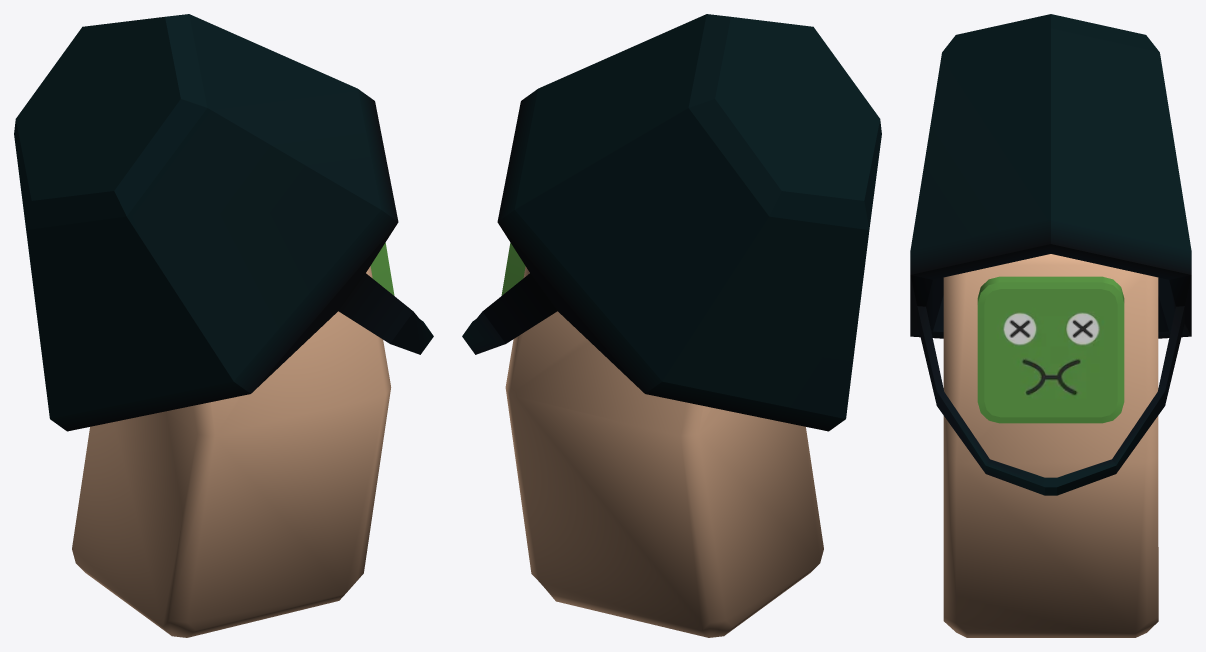
The model's file is Bucket.fbx.
3 views of the same model, side by side, from view 1: azimuth 30°, elevation 25°; view 2: azimuth 150°, elevation 25°; view 3: azimuth 270°, elevation 25° (orthographic). The views are drawn at different scales.
Parts seen in each view (by area): view 1: Cylinder.025, Cube.047, Cube.048; view 2: Cylinder.025, Cube.047, Cube.048; view 3: Cylinder.025, Cube.047, Cube.048.
Part boxes in pixels (<box>): Cylinder.025: <box>14,14,433,431</box>; Cube.047: <box>72,266,391,637</box>; Cube.048: <box>370,243,394,295</box>; Cylinder.025: <box>462,14,881,431</box>; Cube.047: <box>505,266,823,637</box>; Cube.048: <box>501,243,525,295</box>; Cylinder.025: <box>910,14,1191,495</box>; Cube.047: <box>943,254,1158,637</box>; Cube.048: <box>977,276,1124,423</box>.
Size of the model in its own units: 36.49 by 57.07 by 80.15.
